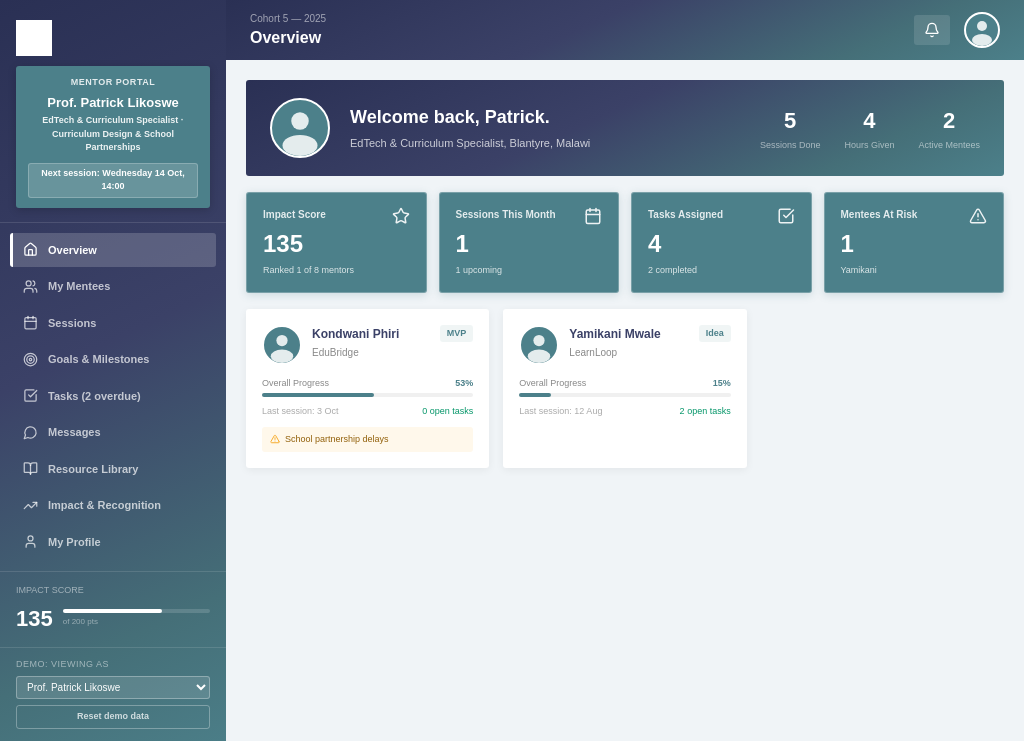
it: Mentor dashboard with two mentees › the Notes button on a Sessions card does the same
Click the button "Sessions": {"x": 113, "y": 323} x1=10 y1=306 x2=216 y2=340
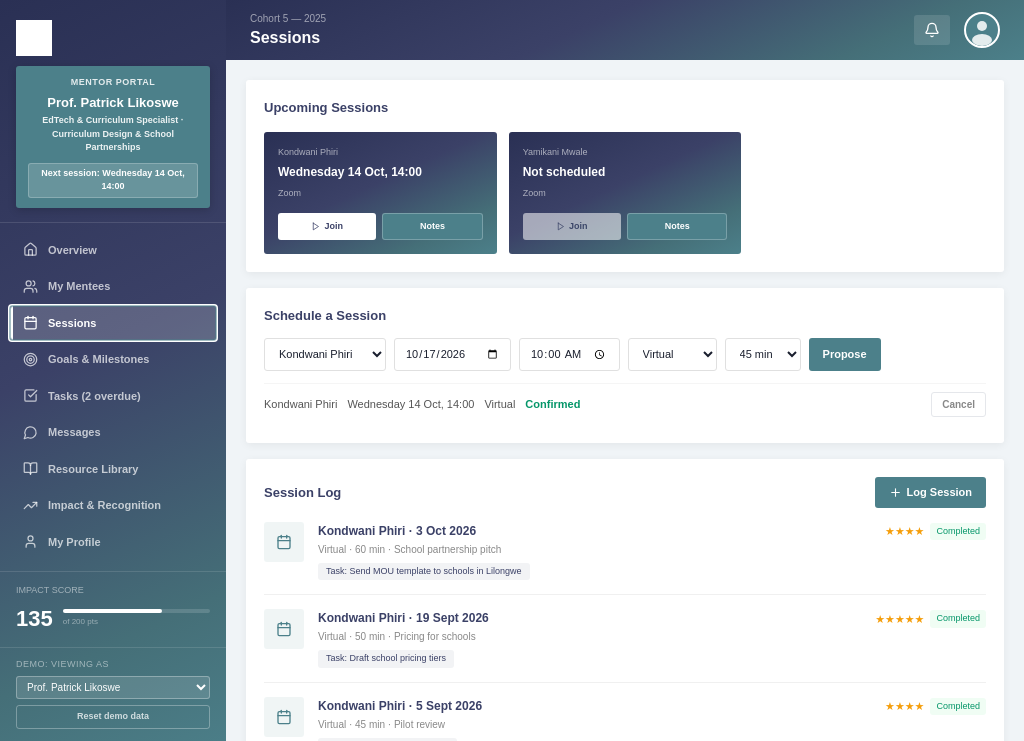
Now the number of buttons "Notes" is 2
Click the button "Notes" below "Not scheduled": {"x": 677, "y": 226} x1=627 y1=212 x2=727 y2=240
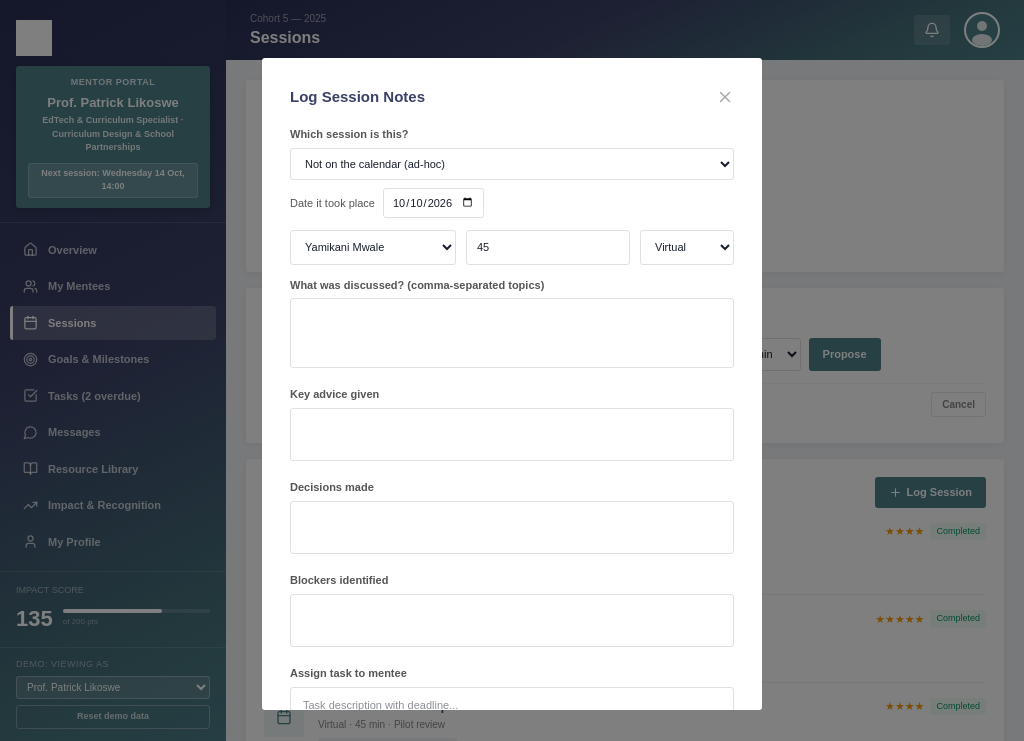
Now the dropdown named "Mentee" shows "Yamikani Mwale", box x1=290 y1=230 x2=456 y2=265
